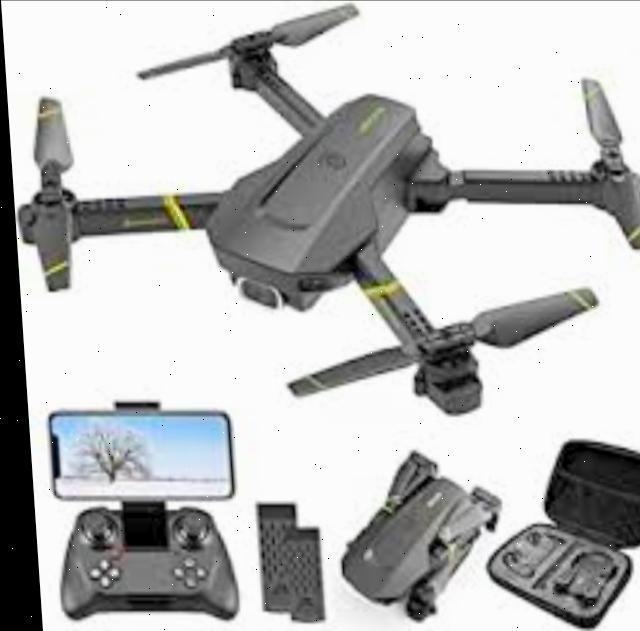drone: (0, 6, 640, 422)
